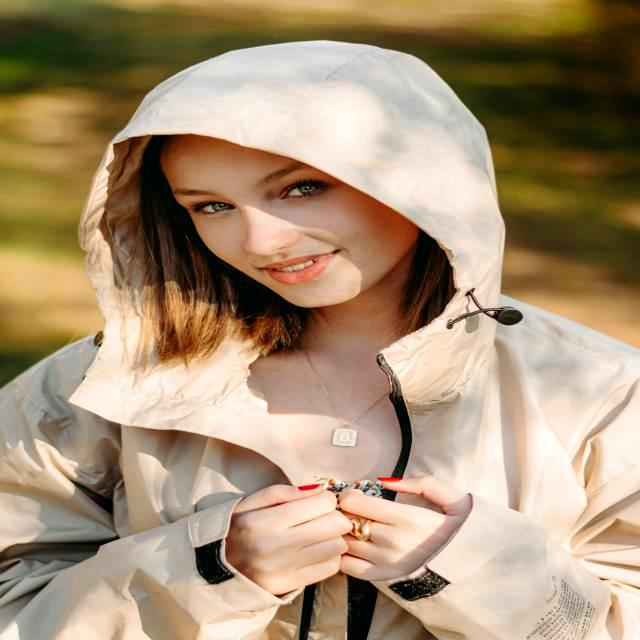no_hard_hat: (80, 41, 505, 332), (392, 320, 492, 380)
person: (50, 42, 638, 640)
